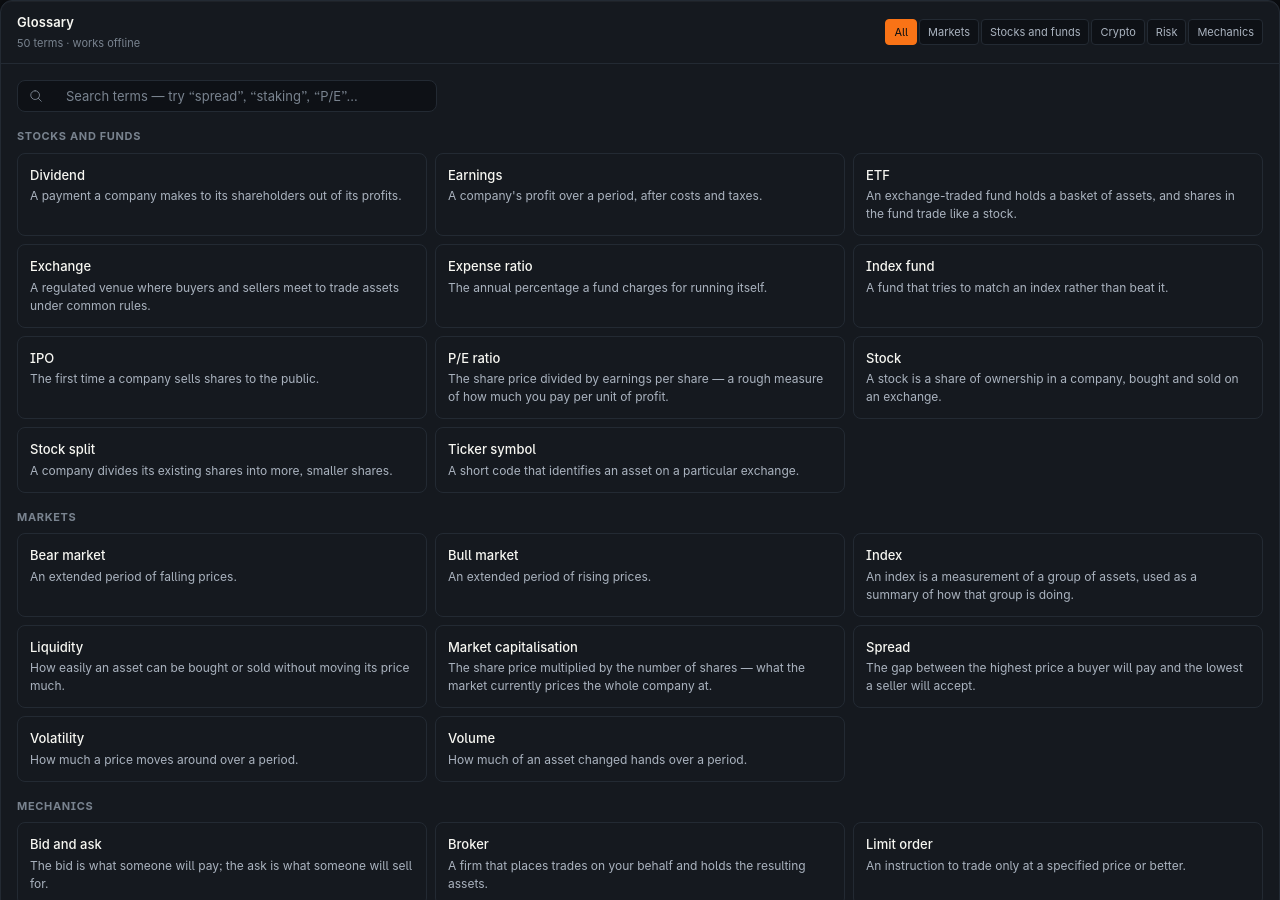
Scenario: Learn — navigation › explains an empty search result
Type "zzzqqq" into the search field named "search the glossary". click: (227, 96)
box: [17,80,437,112]
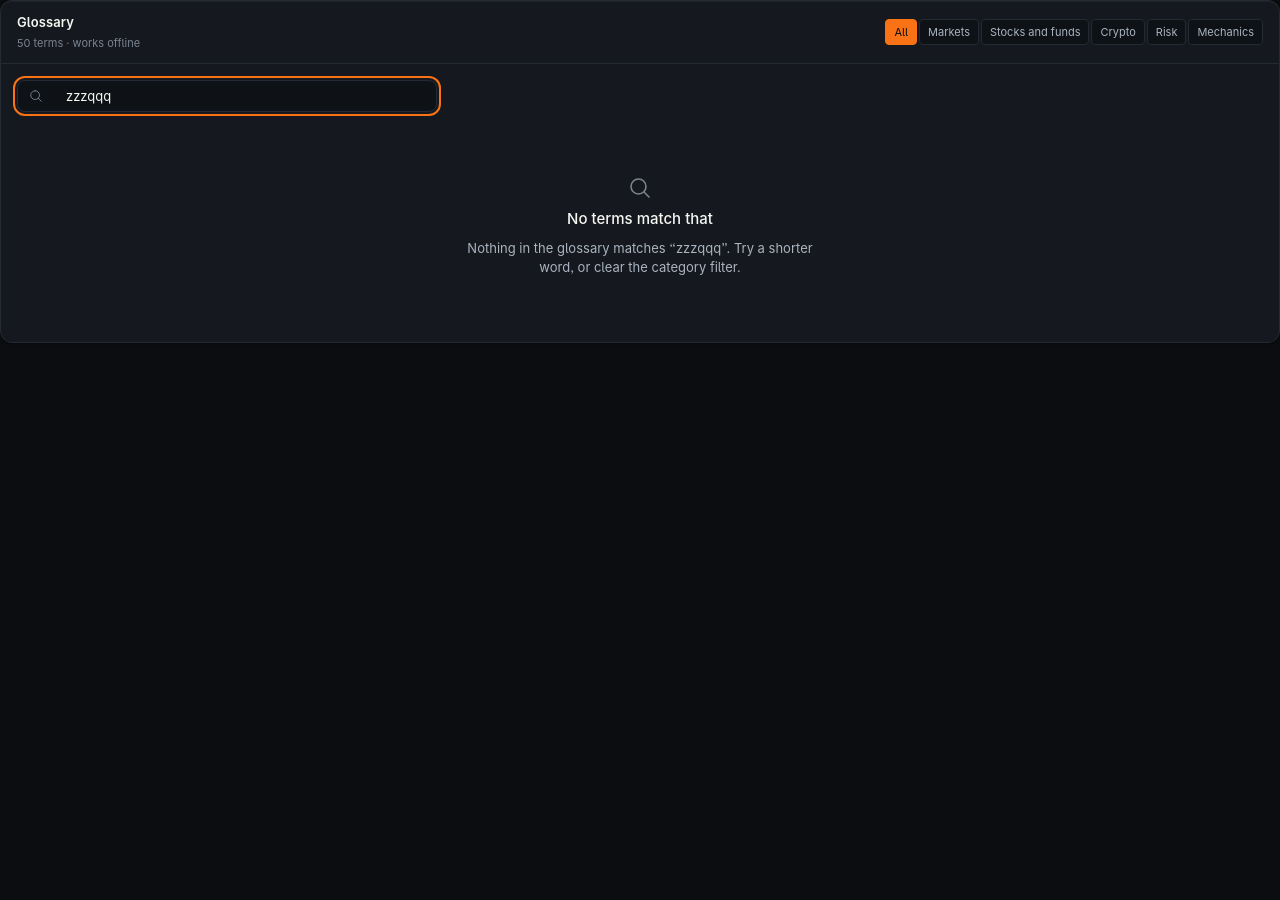
Expected: the text "No terms match that" is shown, [567,208,713,230]
